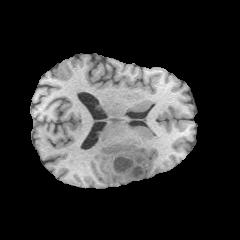glioma: (98, 143, 147, 183)
